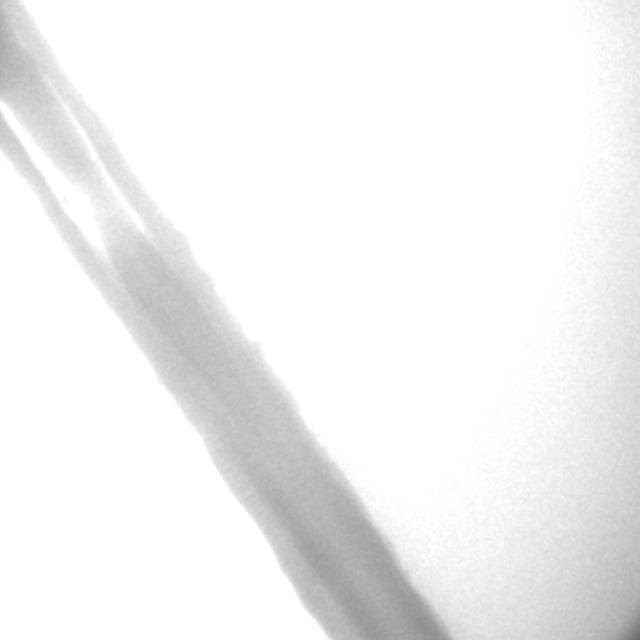unfused: (1, 106, 148, 264)
